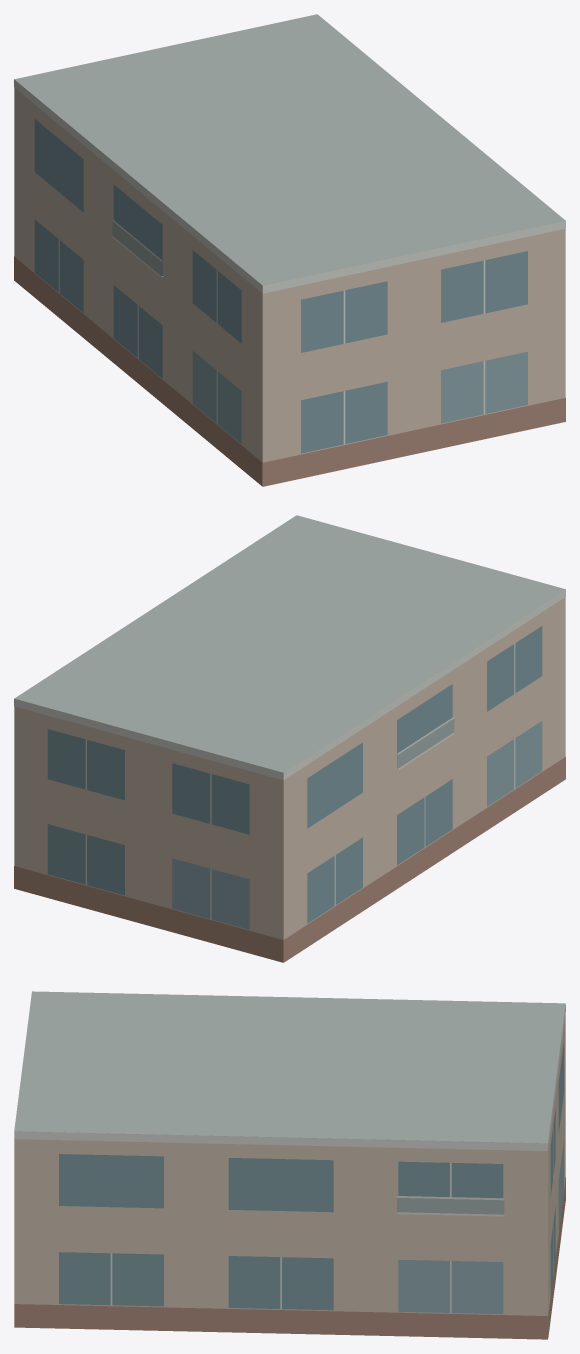
File: survey-upis-33025514.glb
3 views of the same model, one above another, from view 1: azimuth 30°, elevation 25°; view 2: azimuth 150°, elevation 25°; view 3: azimuth 270°, elevation 25° (orthographic). The views are drawn at different scales.
Parts seen in each view (by area): view 1: survey-upis-33025514.tmp; view 2: survey-upis-33025514.tmp; view 3: survey-upis-33025514.tmp.
Part boxes in pixels (x1,y1,x2,y2): survey-upis-33025514.tmp: [14, 14, 565, 486]; survey-upis-33025514.tmp: [14, 515, 565, 962]; survey-upis-33025514.tmp: [14, 991, 565, 1339].
Size of the model in its own units: 10.14 by 6.1 by 15.56.
